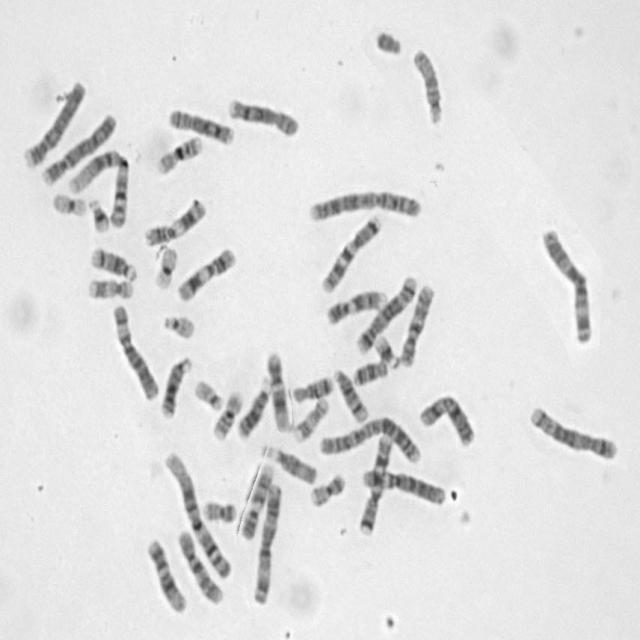A1: (160, 446, 233, 582), (65, 142, 132, 230)
A2: (315, 411, 424, 464), (304, 182, 423, 223)
A3: (538, 222, 596, 345), (250, 478, 284, 606)
B4: (19, 74, 88, 170), (38, 107, 118, 187)
B5: (352, 268, 419, 356), (526, 400, 620, 461)
C10: (174, 524, 227, 606), (397, 278, 438, 368)
C11: (174, 242, 238, 304), (140, 193, 208, 247)
C12: (144, 533, 189, 614), (263, 347, 294, 434)
C6: (109, 298, 162, 401), (359, 463, 448, 507)
C7: (317, 208, 384, 294), (354, 427, 394, 536)
C8: (225, 92, 301, 139), (164, 102, 237, 147)
C9: (236, 458, 275, 541), (323, 283, 389, 327)
D13: (234, 372, 273, 440), (158, 351, 194, 419)
D14: (329, 363, 370, 424), (87, 241, 139, 283)
D15: (409, 42, 446, 126), (262, 439, 319, 486)
E16: (153, 130, 205, 177), (208, 386, 244, 442)
E17: (290, 392, 331, 443), (84, 272, 136, 300)
E18: (289, 370, 335, 404), (349, 354, 390, 388)
F19: (151, 240, 179, 291), (49, 187, 89, 218)
F20: (306, 467, 348, 508), (199, 494, 238, 524)
G21: (372, 330, 402, 369), (86, 193, 111, 234)
G22: (191, 374, 225, 412), (160, 308, 198, 342)
X: (416, 388, 478, 448)
Y: (372, 24, 404, 57)
